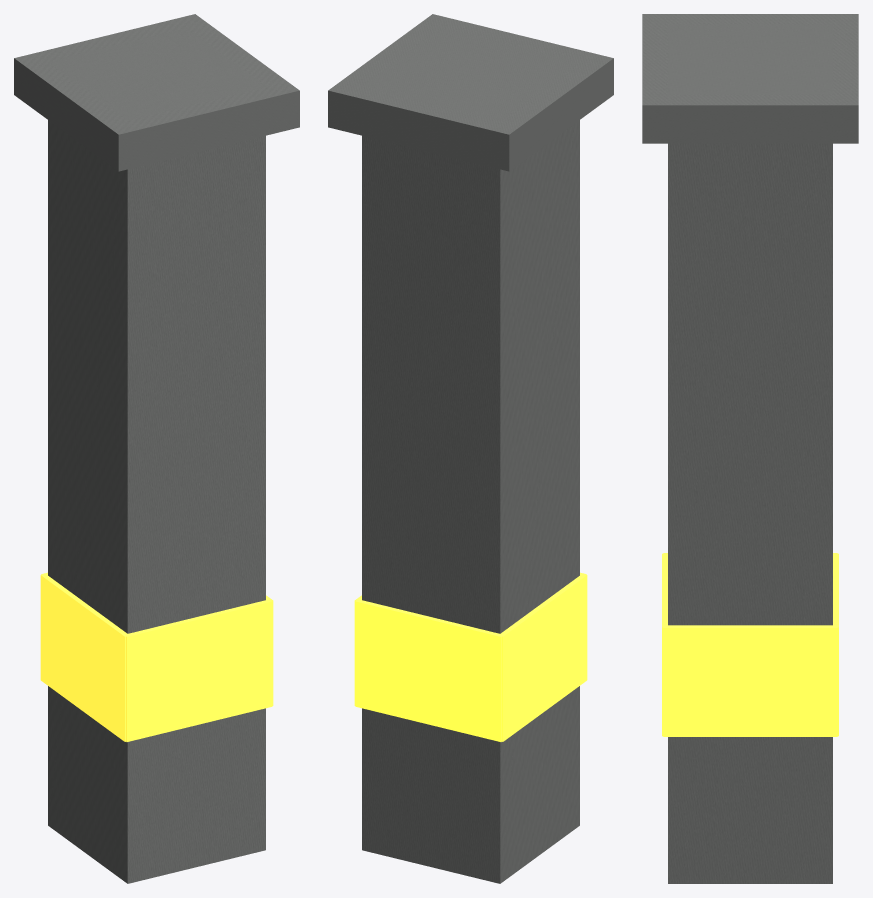
Rendered from car-park-and-road-vehicle-fleet-deck-column-c2050667__32545.glb.
3 views of the same model, side by side, from view 1: azimuth 30°, elevation 25°; view 2: azimuth 150°, elevation 25°; view 3: azimuth 270°, elevation 25° (orthographic). The views are drawn at different scales.
Parts seen in each view (by area): view 1: deck-column; view 2: deck-column; view 3: deck-column.
Boxes of the visible parts, box(x1,y1,x2,y2) form: deck-column: box(14, 14, 299, 883); deck-column: box(328, 14, 613, 883); deck-column: box(642, 14, 858, 883).
Bounding box in the file's own units: 0.7201 × 2.9 × 0.7201.
Materials: 2 (1 with a texture image).
